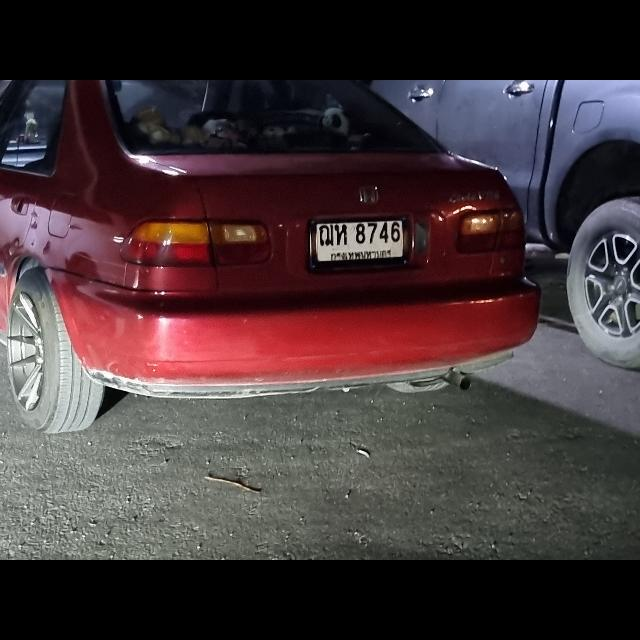licenseplate: (309, 216, 409, 268)
